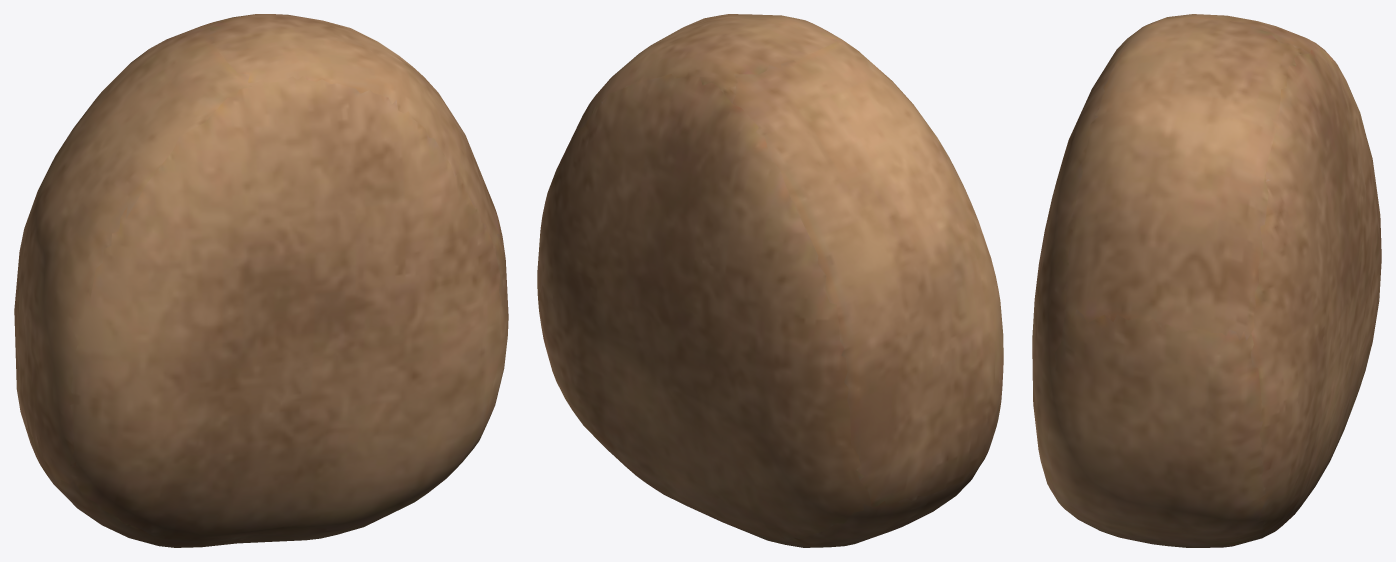
File: old-sandstone-boulder-v001.glb
3 renders of one model, left to right at view 1: azimuth 30°, elevation 25°; view 2: azimuth 150°, elevation 25°; view 3: azimuth 270°, elevation 25°, orthographic. The views are drawn at different scales.
Parts seen in each view (by area): view 1: old-sandstone-boulder; view 2: old-sandstone-boulder; view 3: old-sandstone-boulder.
Boxes of the visible parts, bbox=[...] form: old-sandstone-boulder: bbox=[14, 14, 508, 547]; old-sandstone-boulder: bbox=[537, 14, 1003, 547]; old-sandstone-boulder: bbox=[1032, 14, 1381, 547].
Bounding box in the file's own units: 0.9004 × 0.9491 × 0.6192.
1 material, 1 textured.
